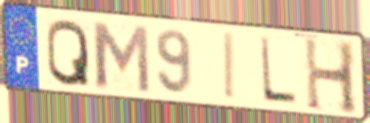9: (155, 28, 193, 96)
H: (302, 34, 361, 117)
I: (223, 31, 238, 103)
L: (258, 34, 300, 107)
M: (89, 19, 153, 96)
Q: (45, 17, 93, 89)
